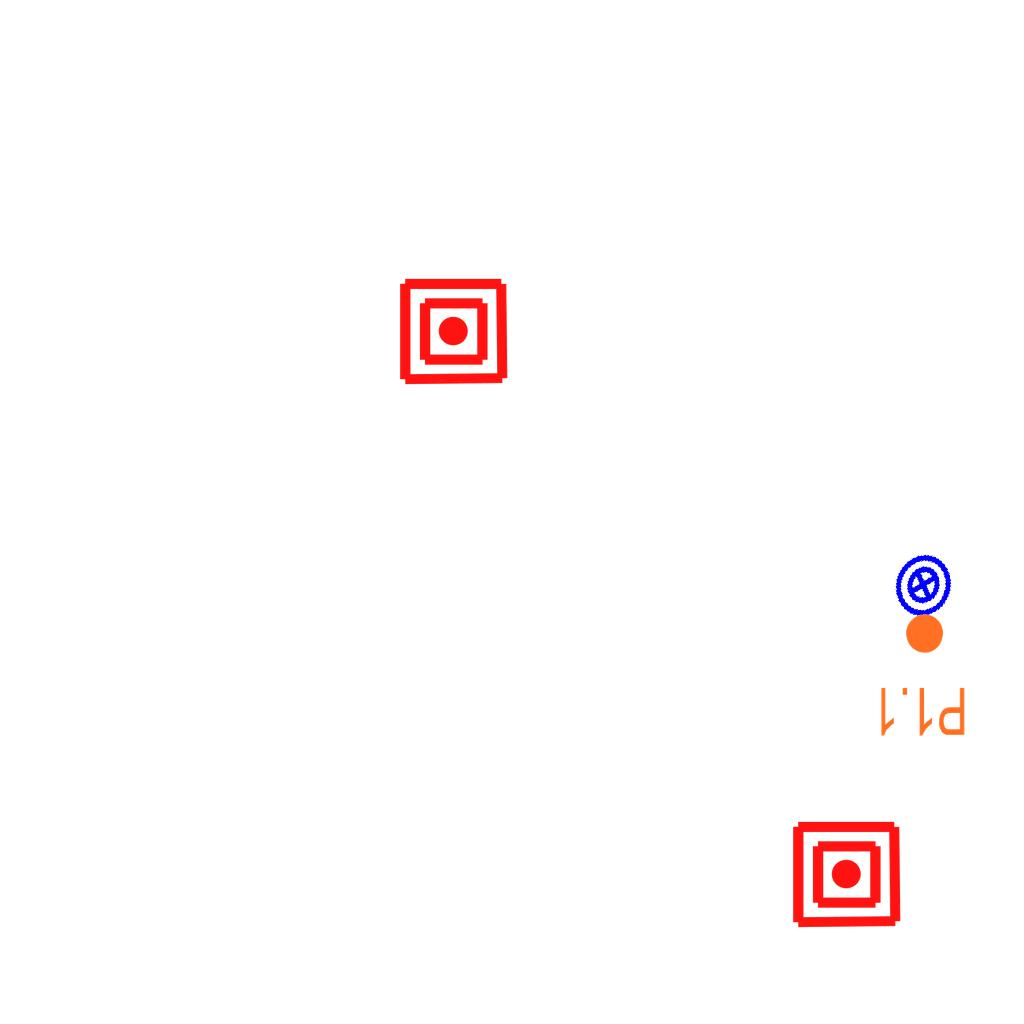Downlight_LED_Einbauleuchten_Flur_2: (875, 611, 968, 739)
NAM-Nichtautomatischer_Melder: (397, 275, 510, 388), (790, 818, 903, 931)
Taster_beleuchtet: (881, 543, 965, 627)
